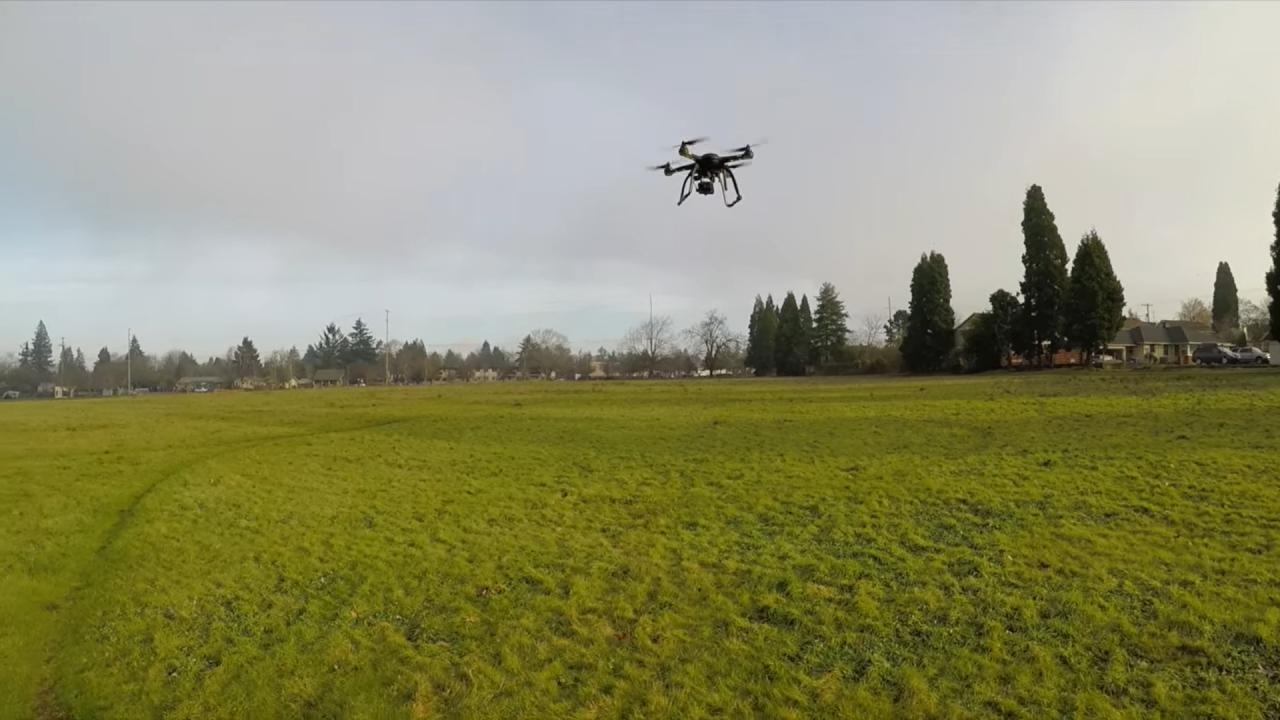Drone: (634, 128, 786, 217)
